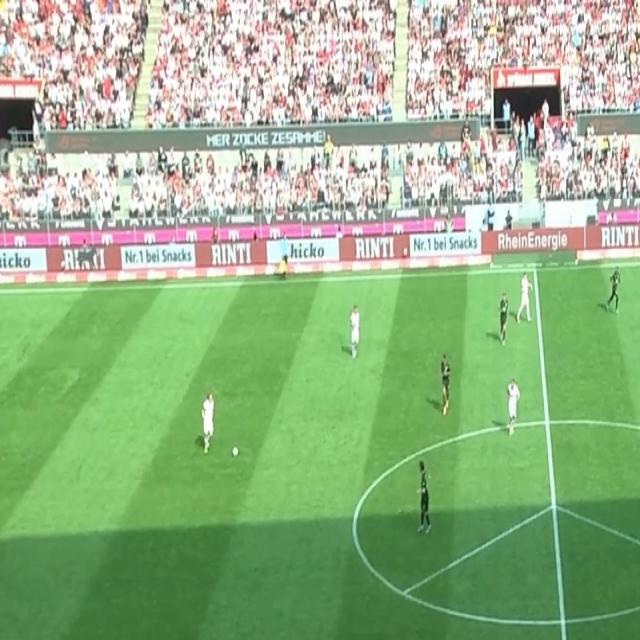ball: (231, 445, 239, 457)
